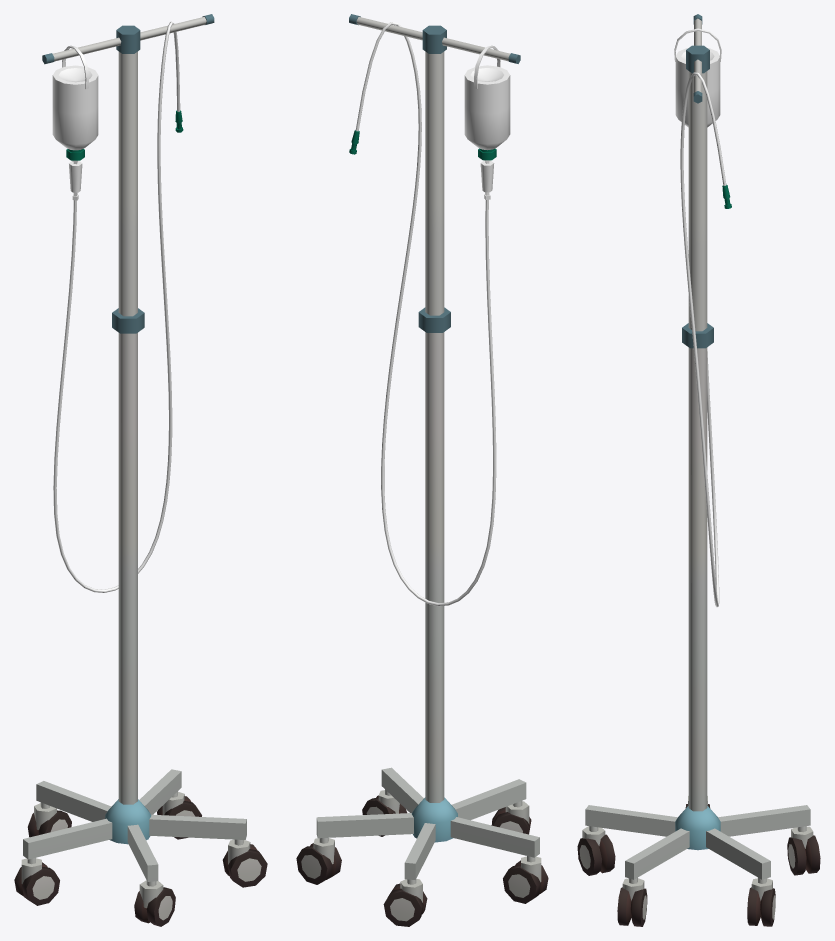
File: Pfb_JLAB_IV_Drip.fbx
3 renders of one model, left to right at view 1: azimuth 30°, elevation 25°; view 2: azimuth 150°, elevation 25°; view 3: azimuth 270°, elevation 25°, orthographic.
Visible parts, largest first — view 1: Color, Glass; view 2: Color, Glass; view 3: Color, Glass.
Boxes of the visible parts, left/top/right/bottom form: Color: left=14, top=14, right=267, bottom=926; Glass: left=52, top=21, right=180, bottom=592; Color: left=296, top=14, right=548, bottom=926; Glass: left=355, top=22, right=510, bottom=606; Color: left=577, top=14, right=820, bottom=926; Glass: left=674, top=28, right=726, bottom=607.
Size of the model in its own units: 0.431 by 1.66 by 0.4393.
2 materials, 2 textured.
